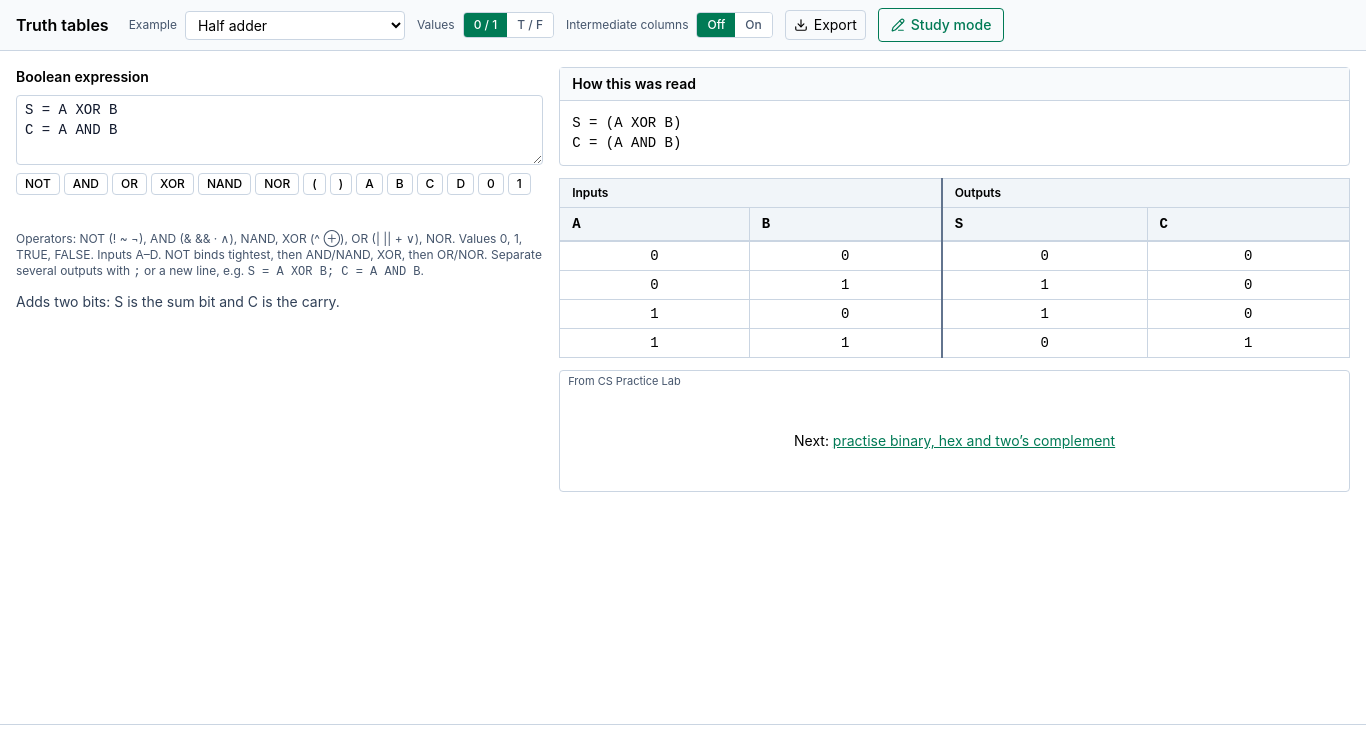
Scenario: Truth Table Study Mode › "Almost" for the other notation; a revealed cell leaves the score
The image size is (1366, 753).
Step 1. Click the button "Study mode" → point(941, 25), box 878,8 -> 1004,42
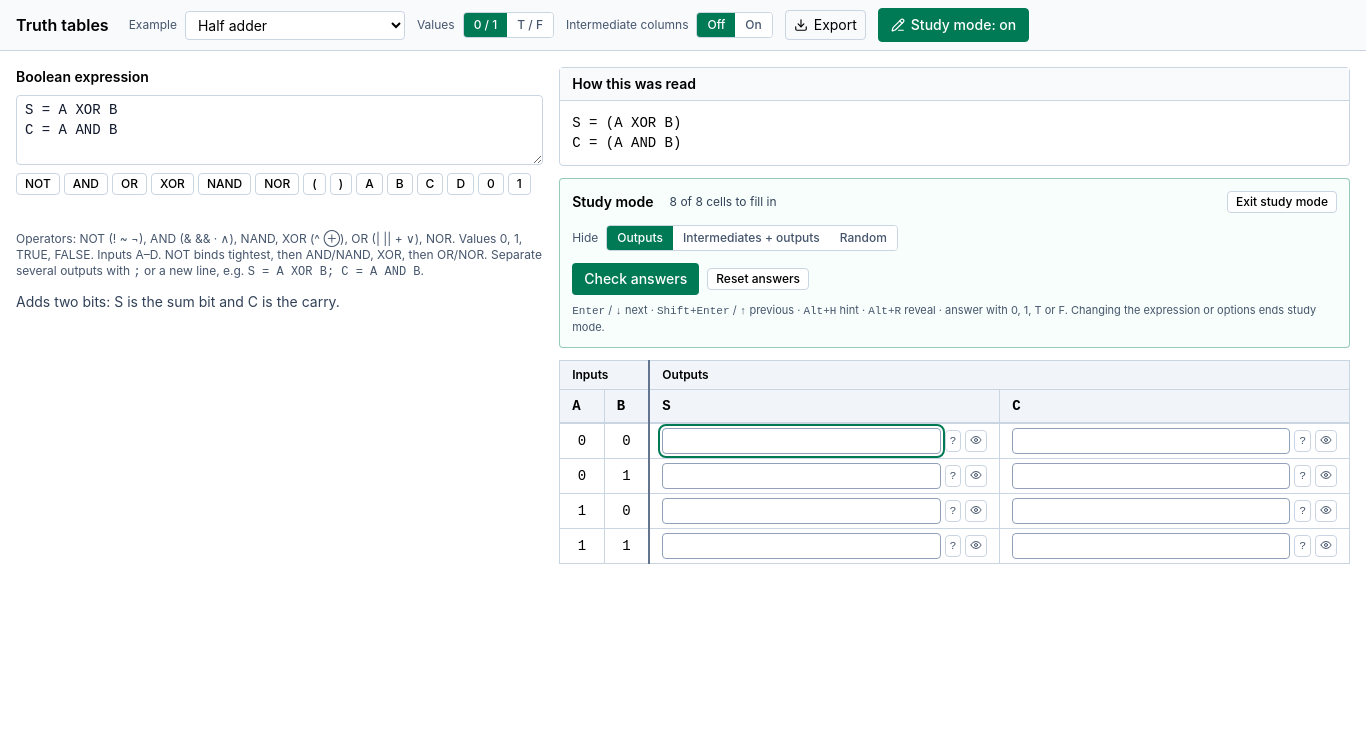
Now the number of fields named "Row 1, S" is 8
Step 2. Type "F" into the field named "Row 1, S" → point(801, 441), box 662,428 -> 941,454
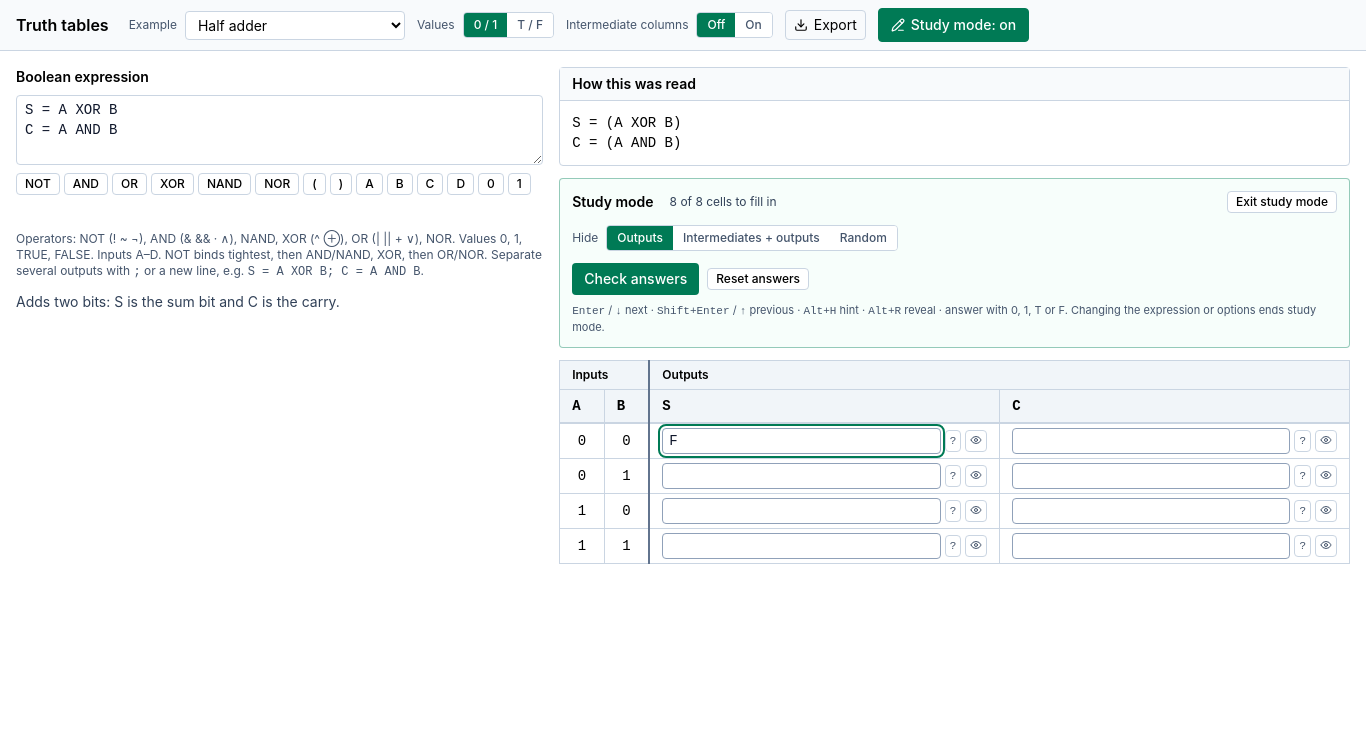
Step 3. Click the button named "Reveal Row 1, S" → point(976, 441), box 965,430 -> 987,452
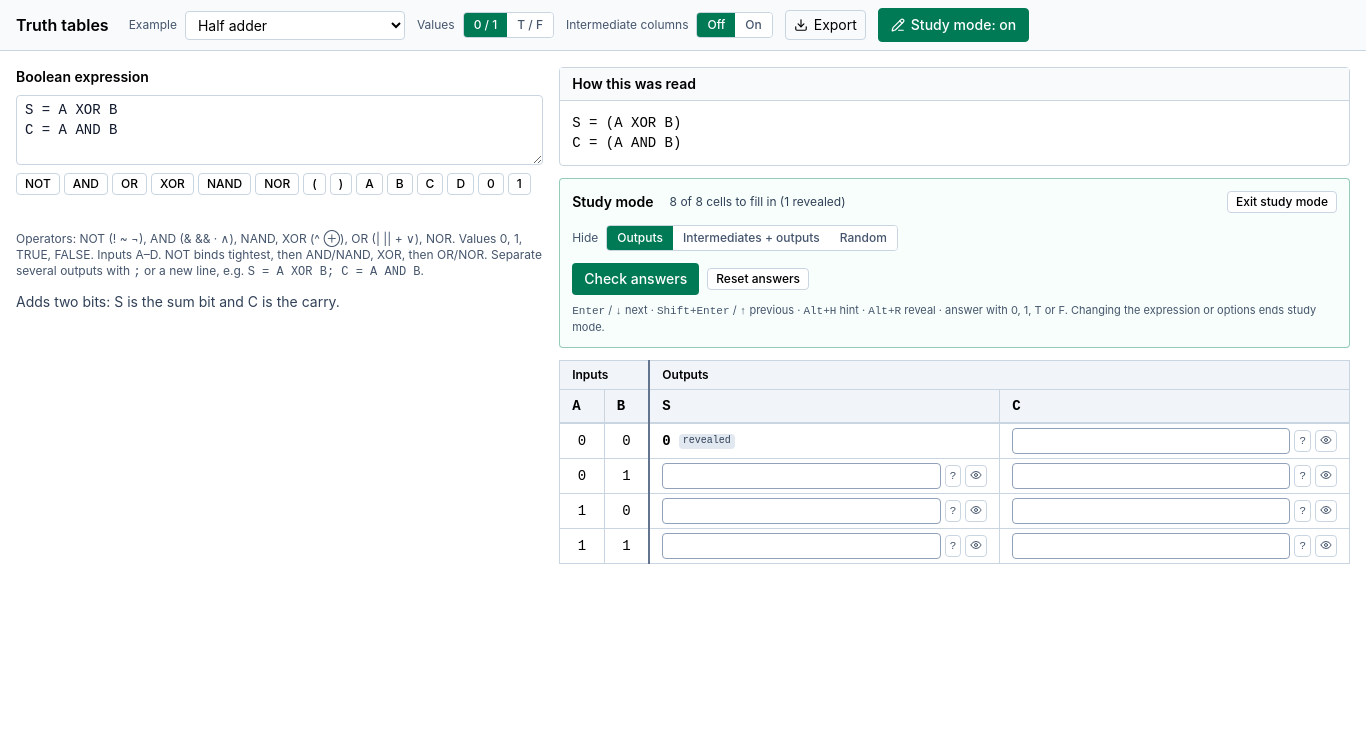
Step 4. Type "F" into the field named "Row 1, C" → point(1151, 441), box 1012,428 -> 1290,454
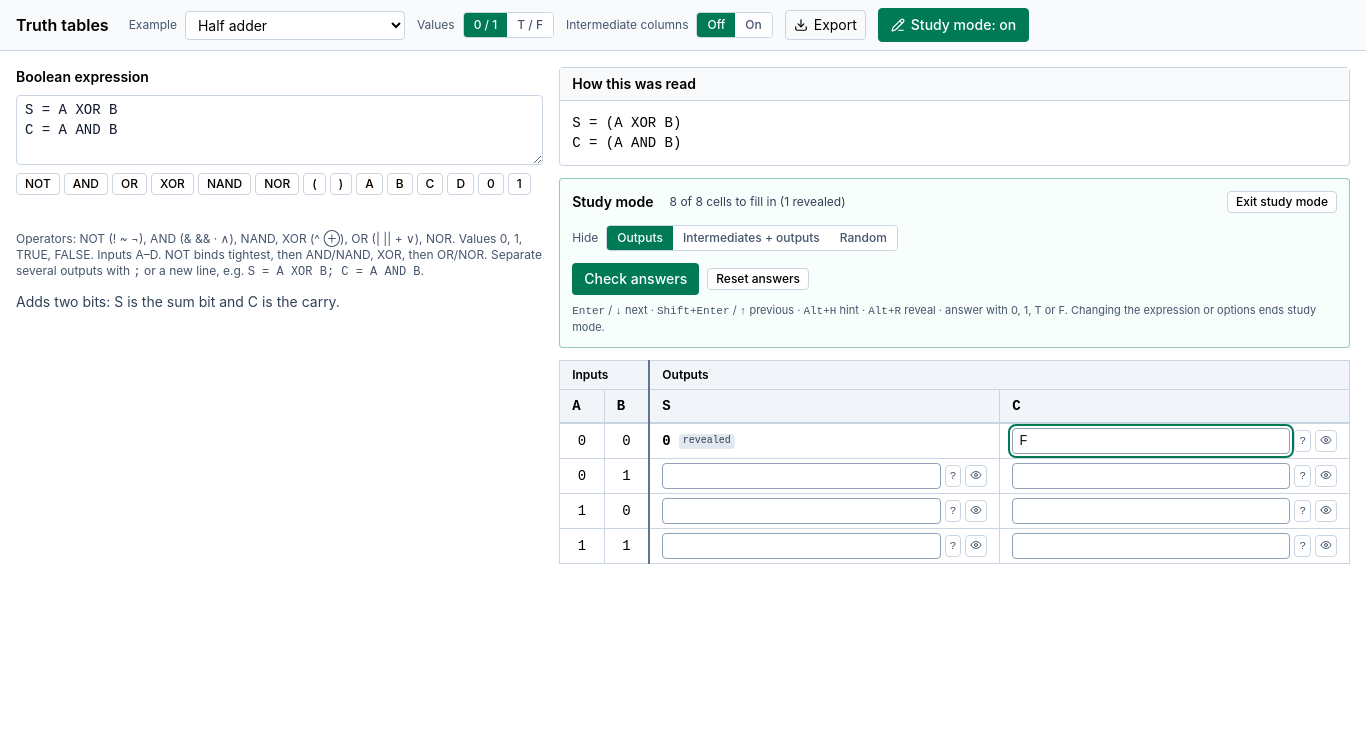
Step 5. Click the button "Check answers" → point(636, 279), box 572,263 -> 699,295
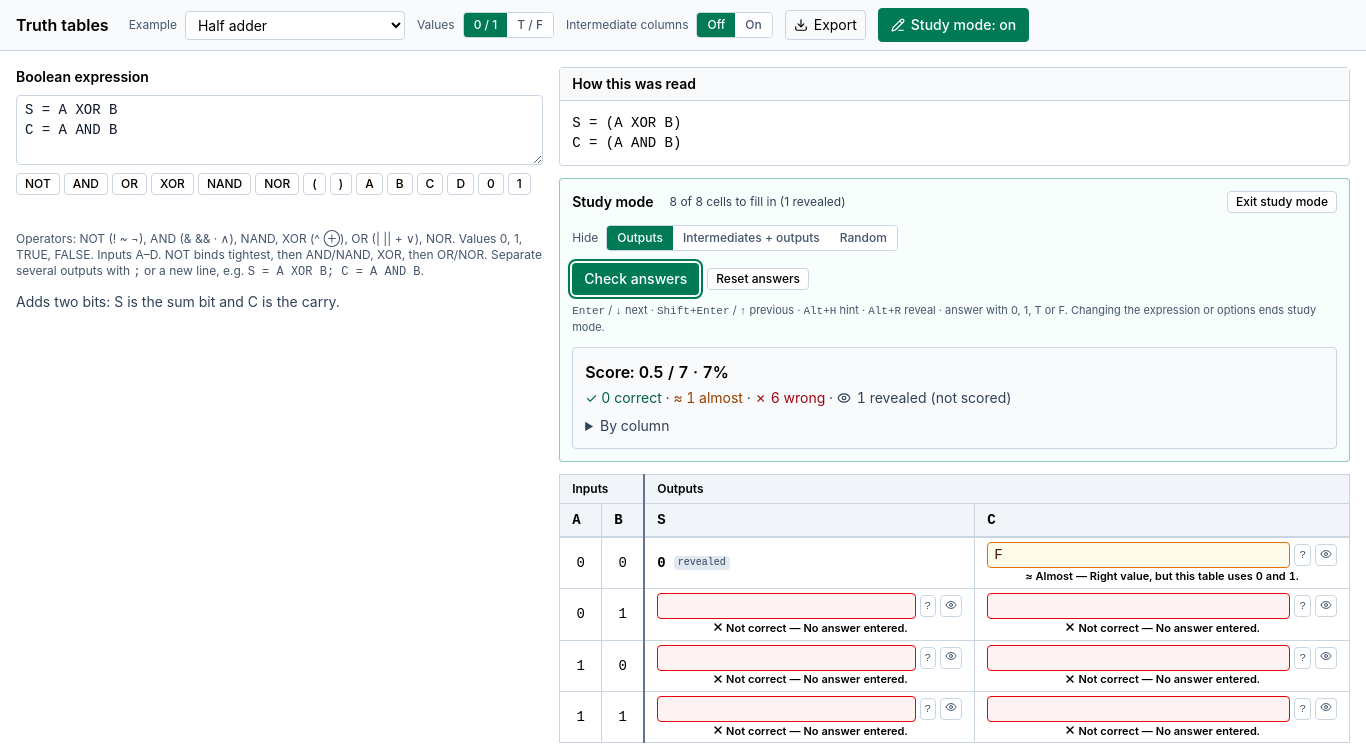
Now the text "1 revealed .not scored." is shown, box 585,389 -> 1012,406
Now the text "Score: 0.5 / 7 · 7%" is shown, box 585,362 -> 729,382
